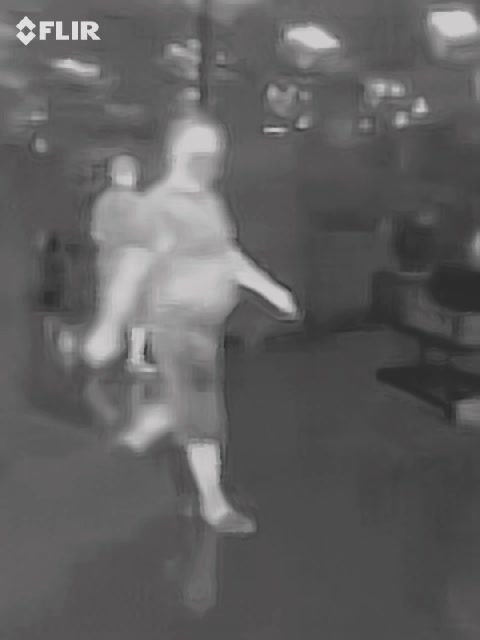head: (164, 114, 227, 188)
